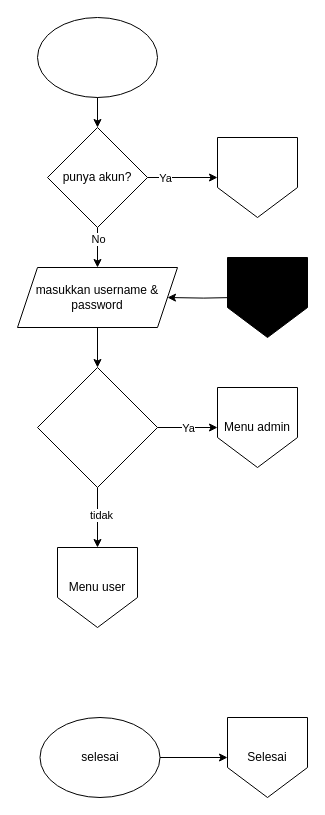
This 325x815 diagram has some shape labels left out. The shapes that lost their labels are listed below. From the top down, each one's centre as x and y in pixels, then its label:
At point 97,57: "mulai".
At point 257,177: "Login".
At point 97,427: "login admin".
